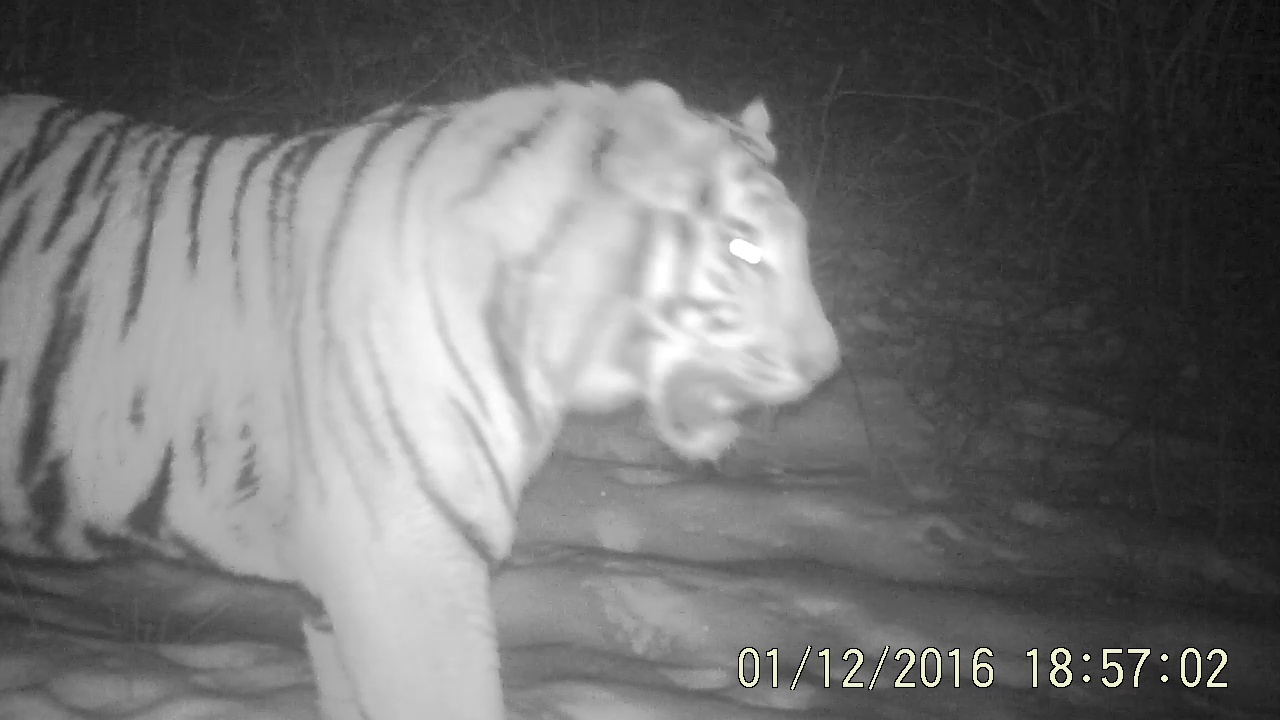Tiger: (1, 7, 876, 720)
